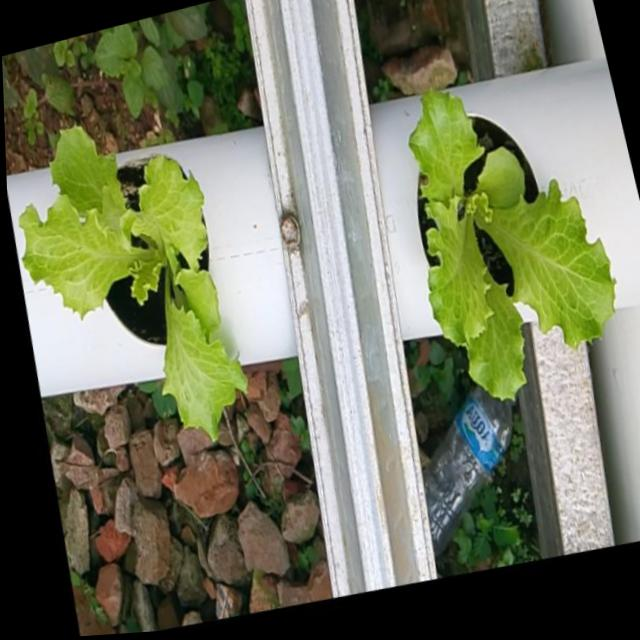Baby: (16, 126, 246, 441), (407, 86, 615, 400)
